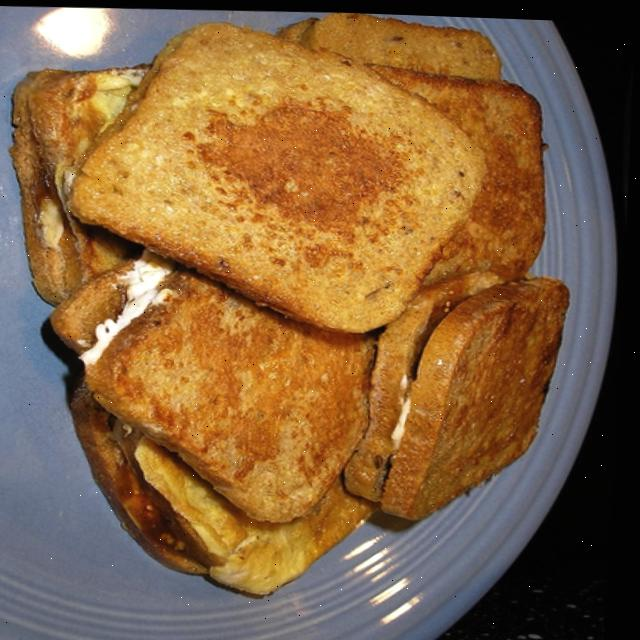面包点心: (0, 0, 617, 629)
